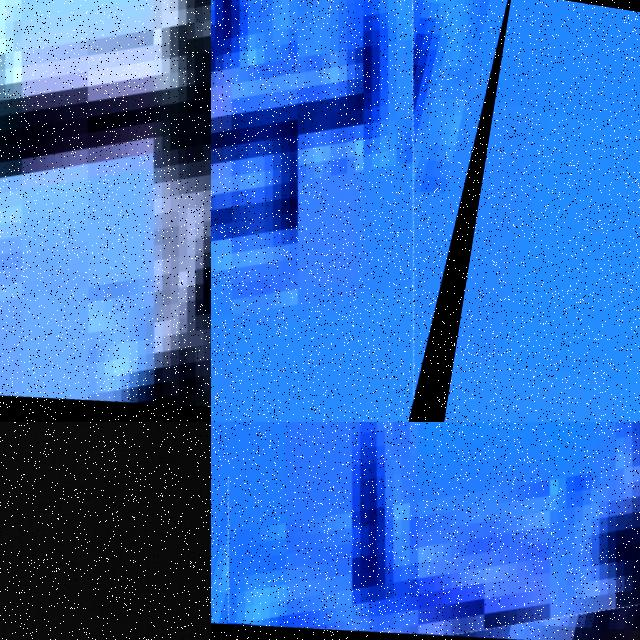0: (211, 0, 512, 422), (211, 422, 640, 640), (0, 0, 211, 422)
drone: (0, 422, 211, 640)
